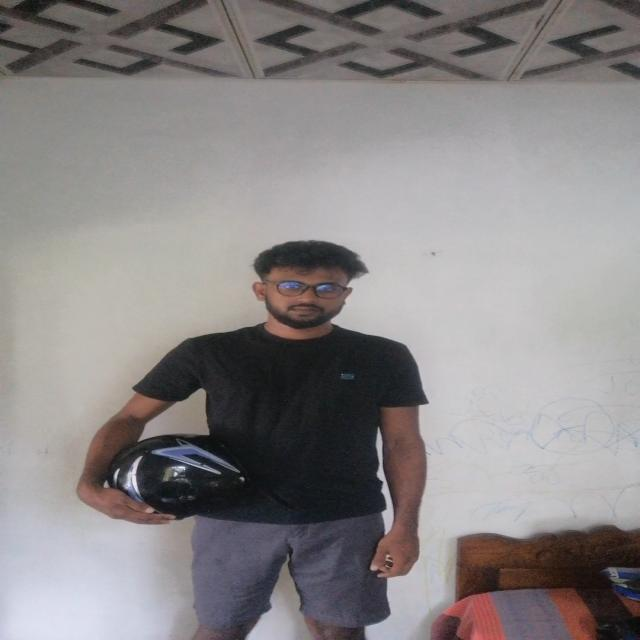Person: (96, 239, 434, 640)
